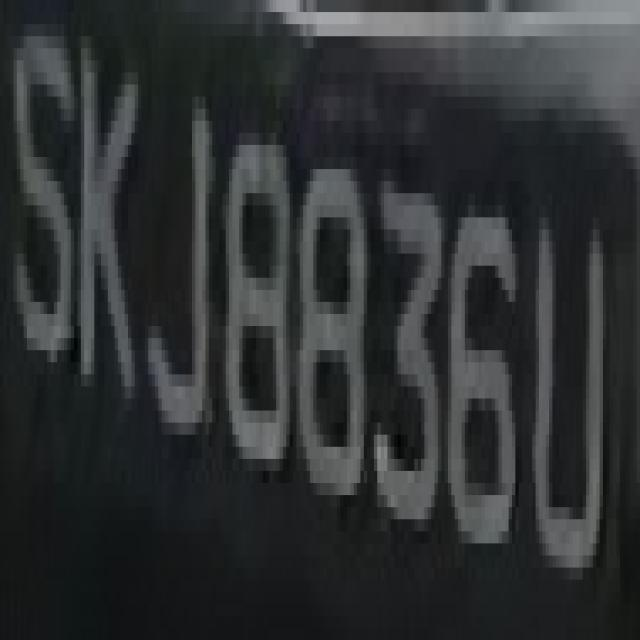3: (367, 133, 448, 543)
6: (438, 145, 519, 580)
8: (293, 96, 371, 544), (222, 97, 290, 507)
J: (142, 73, 212, 495)
K: (71, 24, 145, 447)
S: (7, 24, 74, 423)
U: (3, 3, 3, 12)
